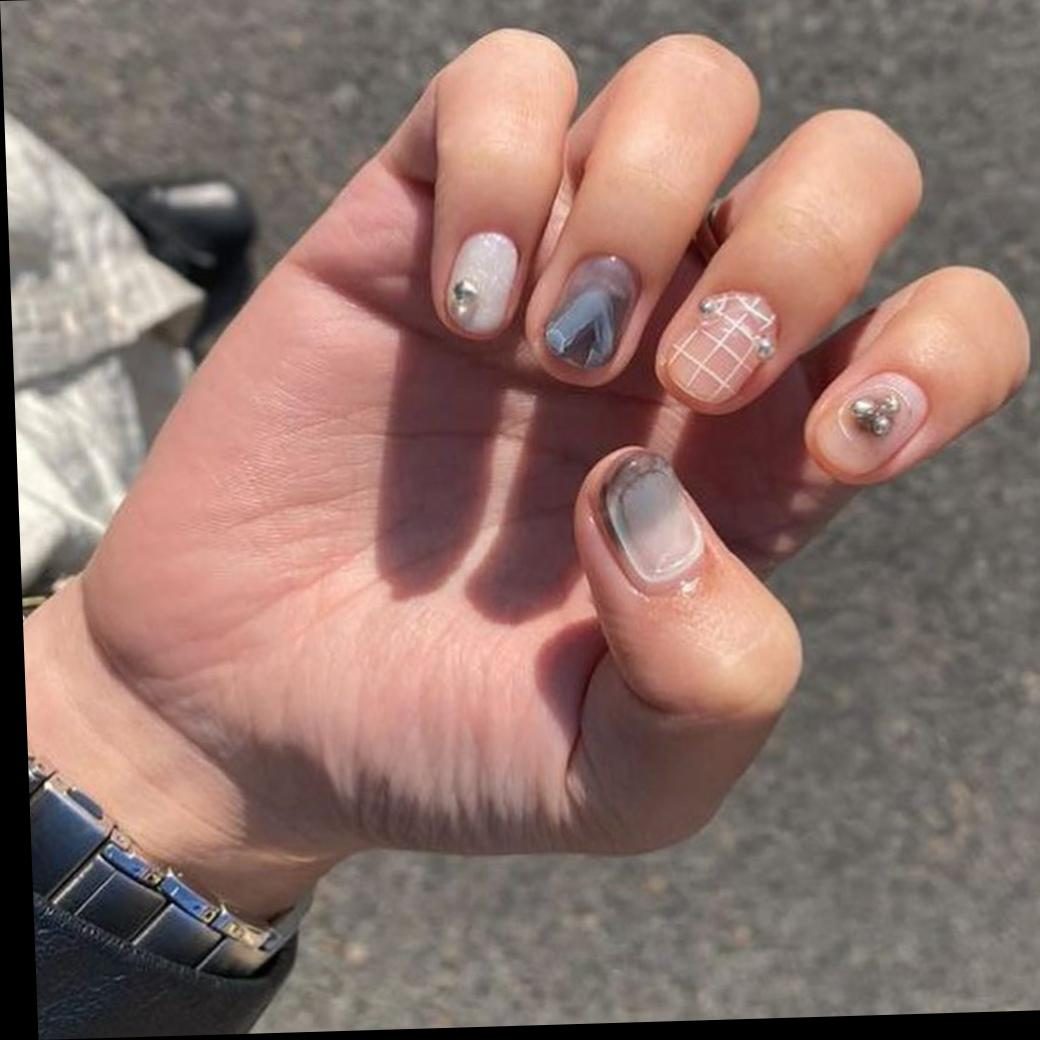nail: (598, 450, 710, 593), (657, 287, 786, 408), (806, 368, 935, 480), (538, 252, 645, 375), (439, 229, 524, 342)
